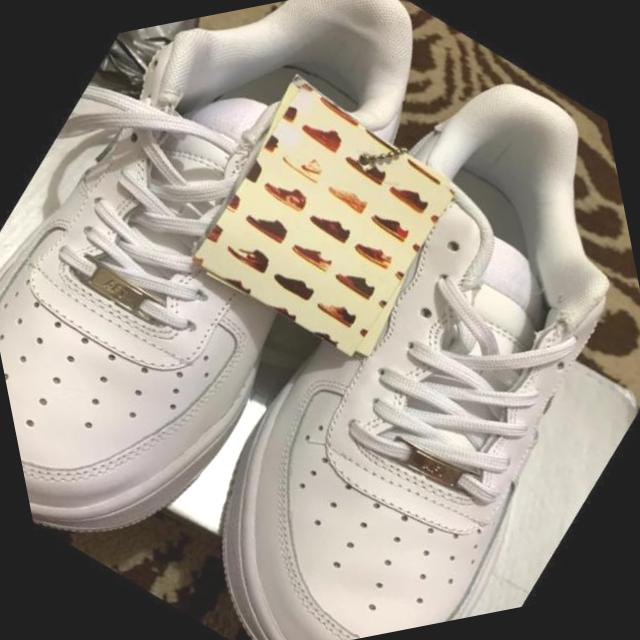nike_fake_airforce: (58, 27, 640, 640), (0, 0, 564, 607)
